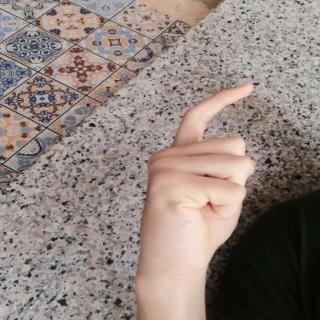RAA: (126, 76, 266, 282)
